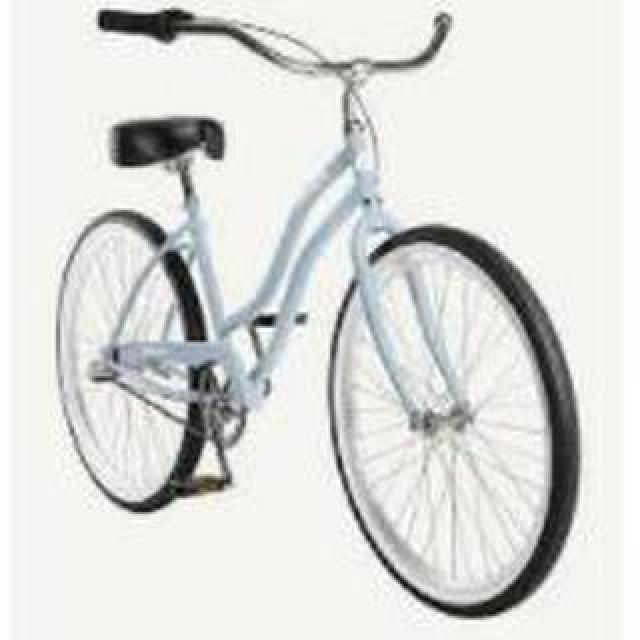Person: (50, 4, 580, 622)
